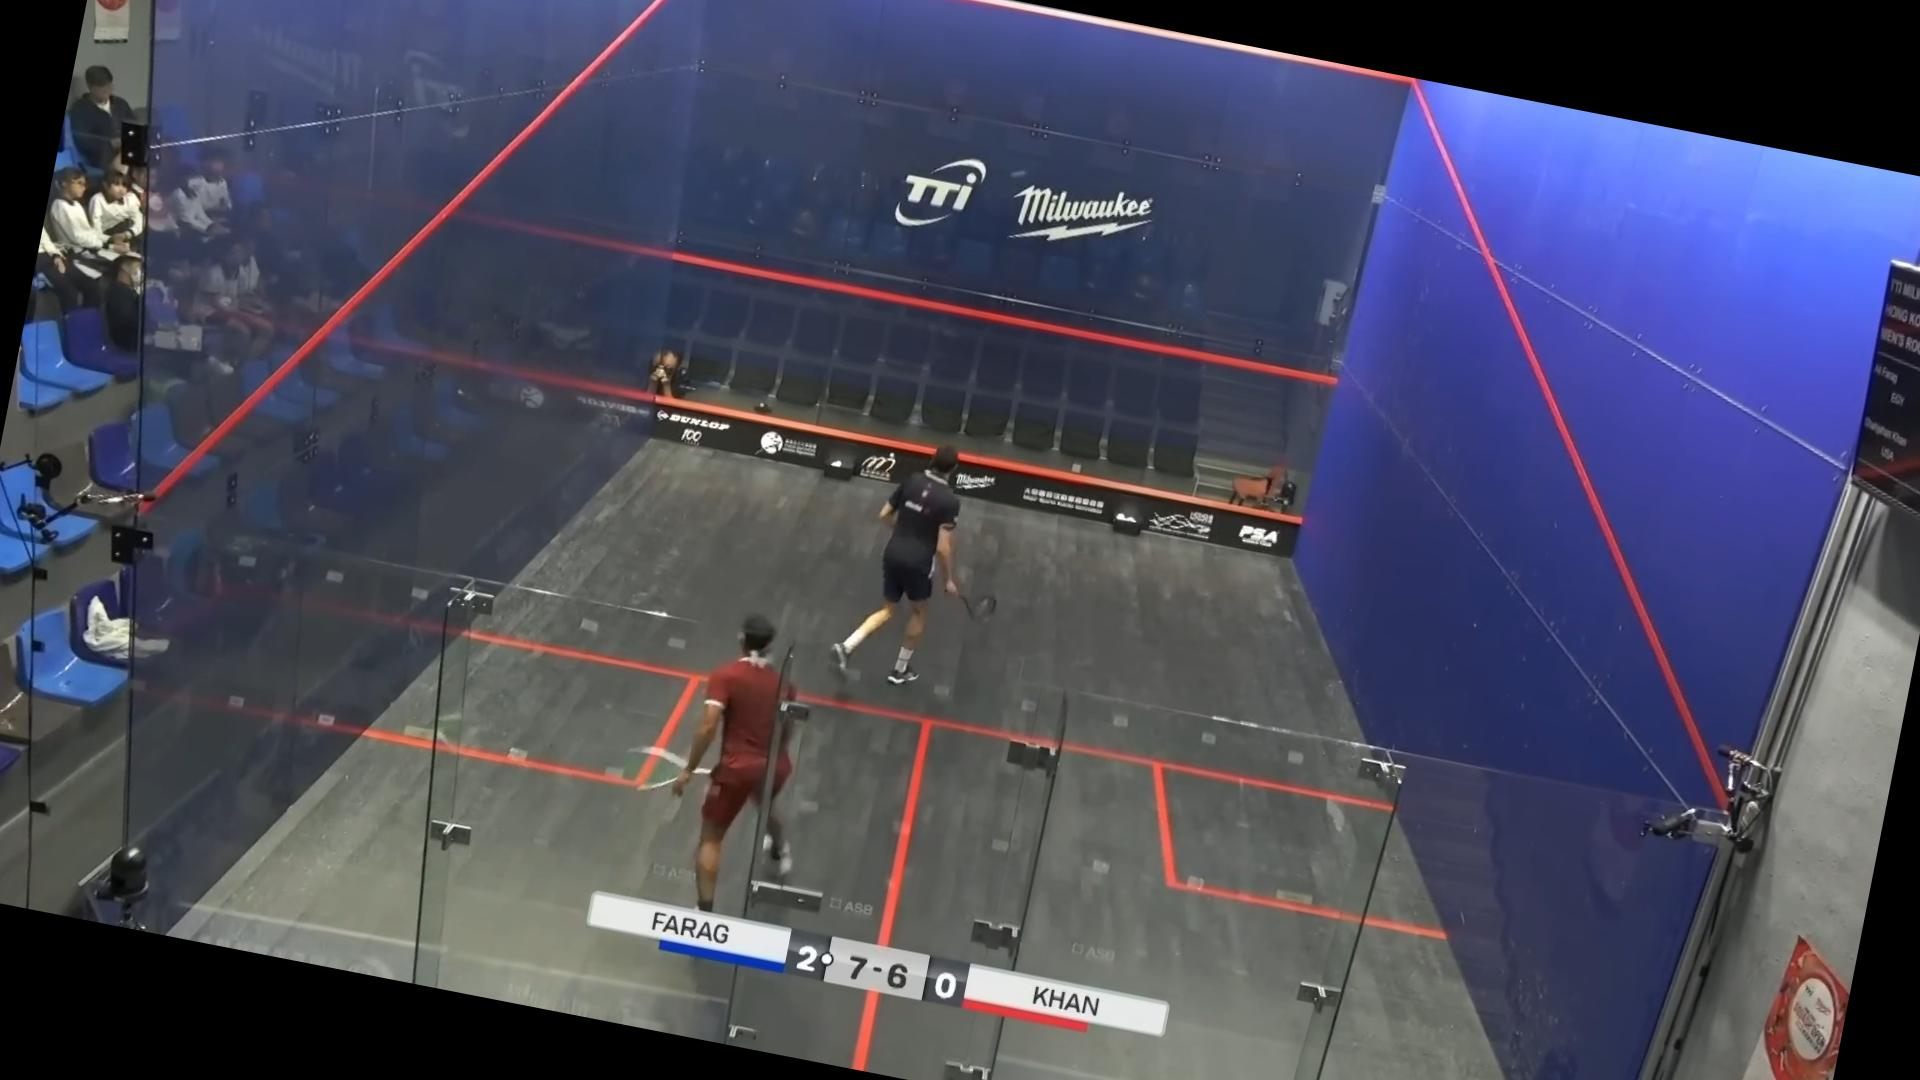Racket: (611, 738, 715, 804), (949, 585, 1002, 630)
